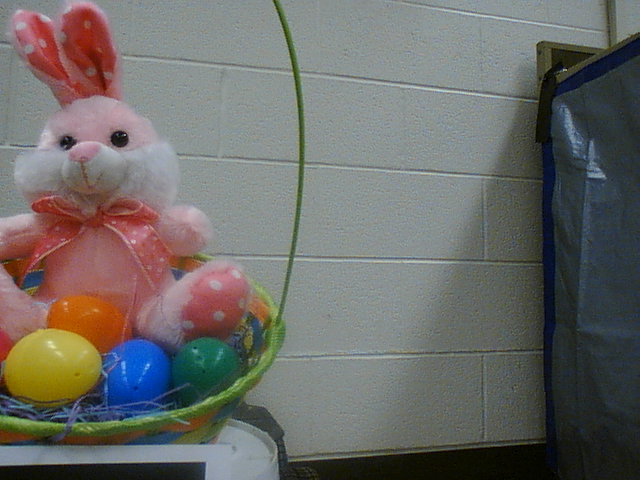bunny: (1, 1, 337, 439)
